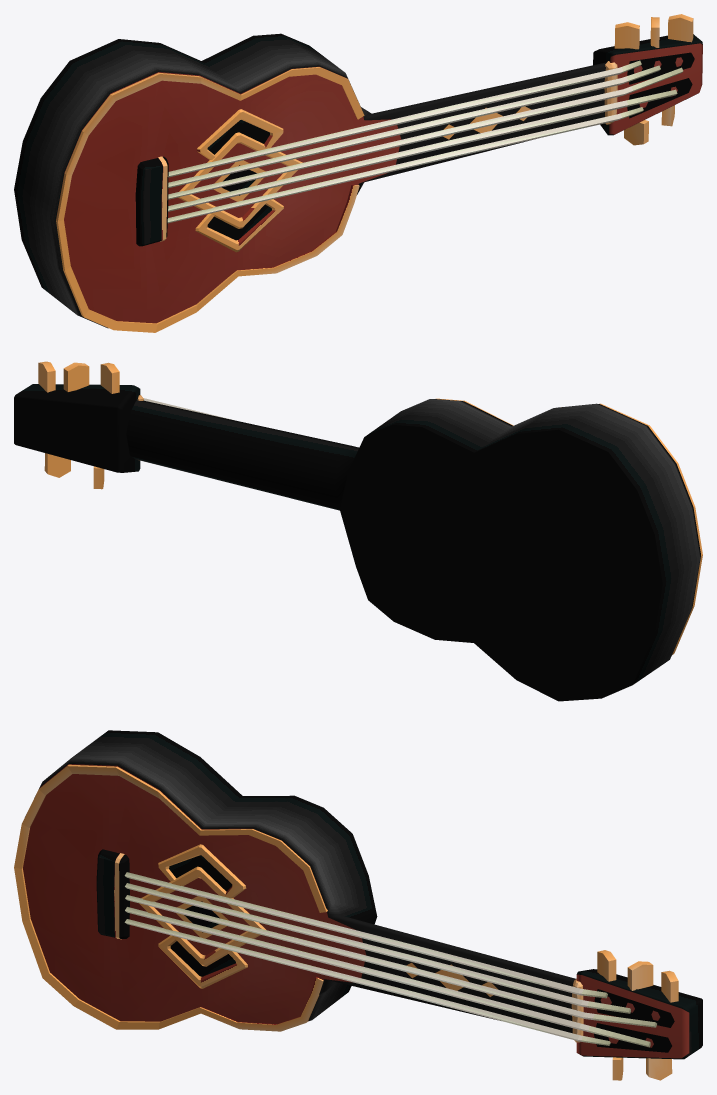
Rendered from CharSkyKid_Prop_AP04Guitar.glb.
3 renders of one model, top to bottom at view 1: azimuth 30°, elevation 25°; view 2: azimuth 150°, elevation 25°; view 3: azimuth 330°, elevation 25°, orthographic.
Parts seen in each view (by area): view 1: CharSkyKid_Prop_AP04Guitar; view 2: CharSkyKid_Prop_AP04Guitar; view 3: CharSkyKid_Prop_AP04Guitar.
Boxes of the visible parts, left/top/right/bottom form: CharSkyKid_Prop_AP04Guitar: left=14, top=14, right=702, bottom=332; CharSkyKid_Prop_AP04Guitar: left=14, top=361, right=702, bottom=701; CharSkyKid_Prop_AP04Guitar: left=14, top=730, right=702, bottom=1080.
Size of the model in its own units: 8.31 by 3.21 by 1.01.
1 material, 1 textured.
